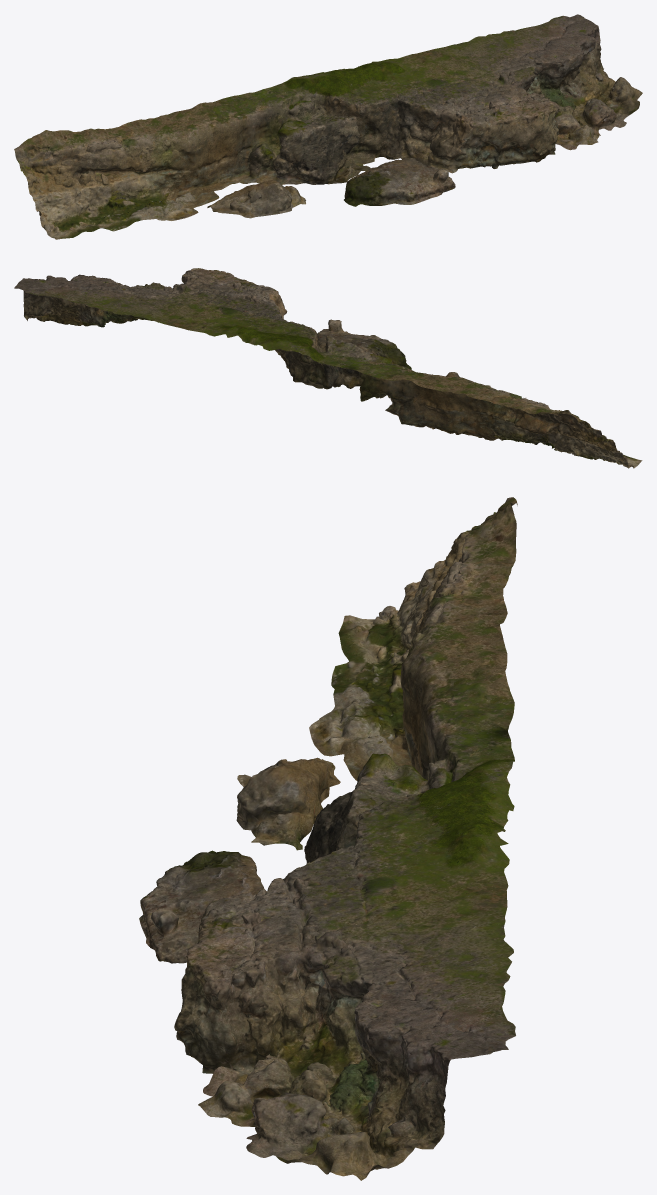
The model's file is cliff_peak.glb.
3 views of the same model, one above another, from view 1: azimuth 30°, elevation 25°; view 2: azimuth 150°, elevation 25°; view 3: azimuth 270°, elevation 25° (orthographic). The views are drawn at different scales.
Parts seen in each view (by area): view 1: coastal_cliff_04; view 2: coastal_cliff_04; view 3: coastal_cliff_04.
Boxes of the visible parts, box(x1,y1,x2,y2) form: coastal_cliff_04: box(14, 14, 642, 239); coastal_cliff_04: box(14, 268, 642, 468); coastal_cliff_04: box(139, 497, 517, 1180).
Bounding box in the file's own units: 86.77 × 11 × 24.23.
1 material, 1 textured.
